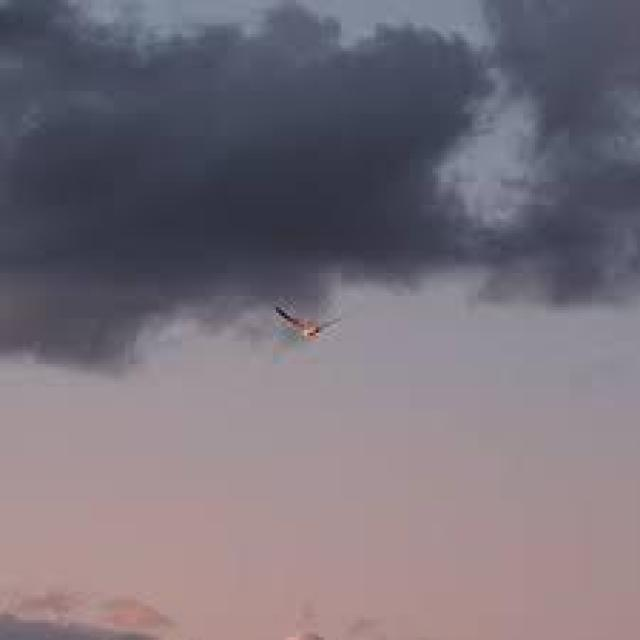bird: (279, 304, 340, 346)
